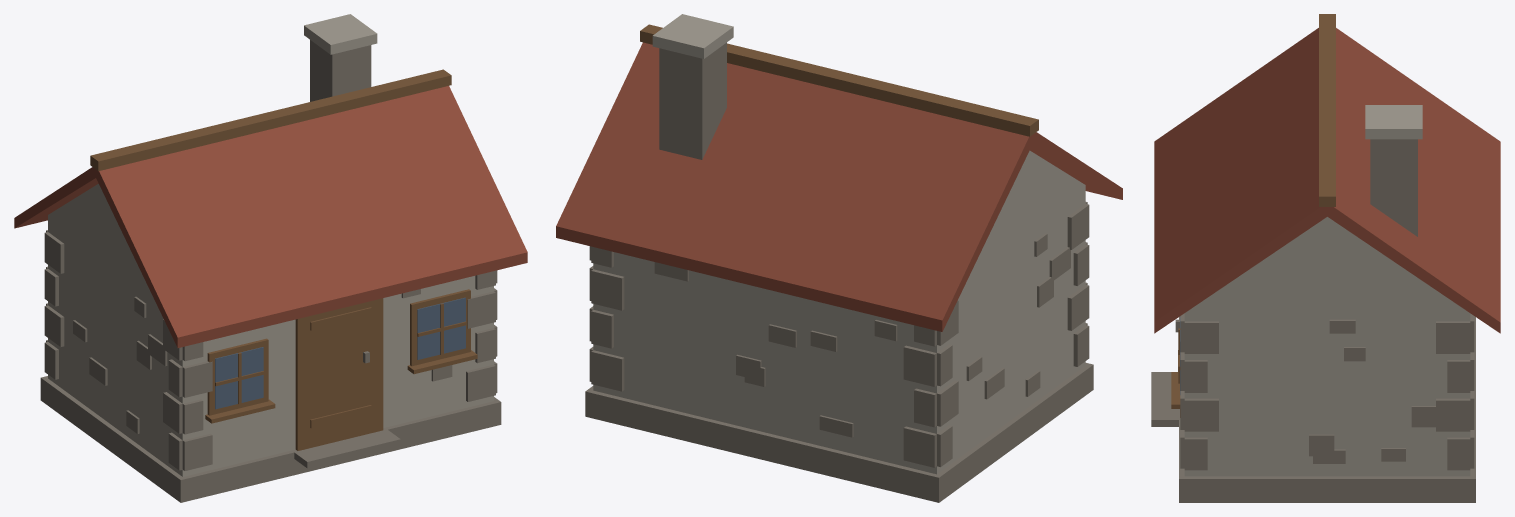
Rendered from keeper_hut.glb.
3 renders of one model, left to right at view 1: azimuth 30°, elevation 25°; view 2: azimuth 150°, elevation 25°; view 3: azimuth 270°, elevation 25°, orthographic. The views are drawn at different scales.
Visible parts, largest first — view 1: Hut, Hut_Door; view 2: Hut; view 3: Hut.
Boxes of the visible parts, x1,y1,x2,y2 form: Hut: (14,14,527,502); Hut_Door: (305,300,375,448); Hut: (556,14,1122,502); Hut: (1151,14,1500,502).
Size of the model in its own units: 4.54 by 4.12 by 3.67.
